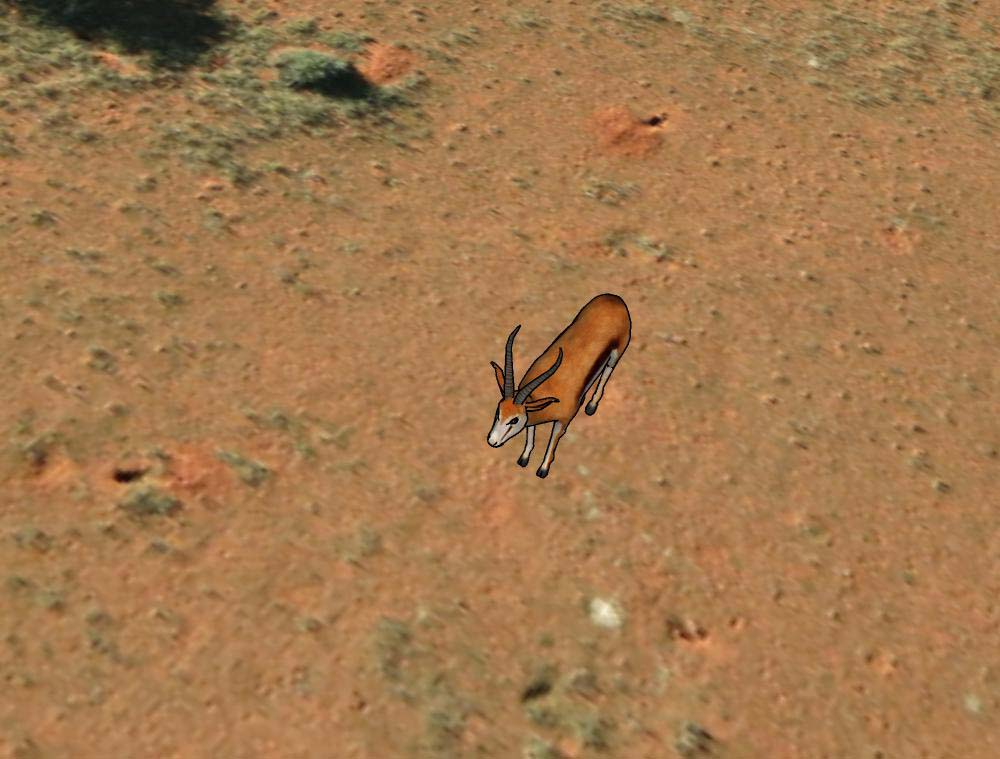springbok: (483, 291, 633, 483)
